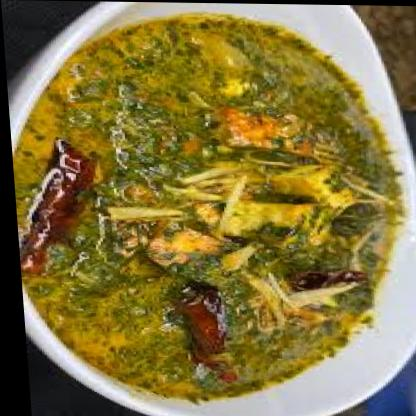palak_paneer: (1, 14, 411, 403)
